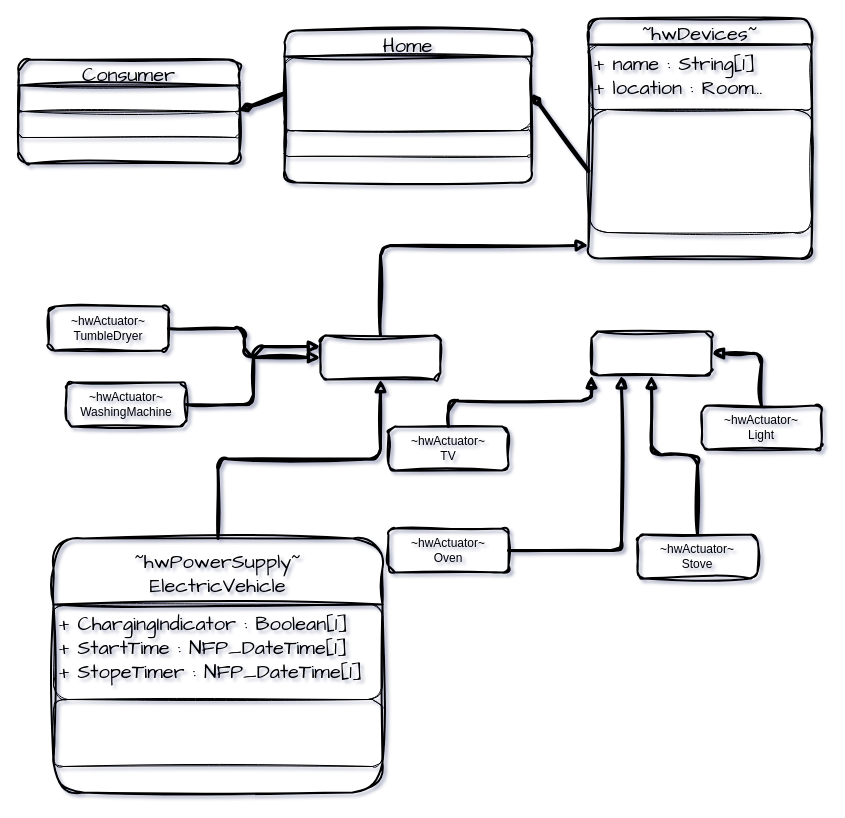
The diagram is 845 pixels wide and 818 high, and some of its shapes have lost their labels. The centre of each missing label's shape, as x and y in pixels:
"+ address : String[1] + PostcodeL Int... + Home" belongs at point (408, 93).
"+ on() + off() + Status() + Consumption()" belongs at point (700, 170).
"+ setChargingTime() + Plug()" belongs at point (217, 732).
"+userID : In... + actor" belongs at point (129, 98).
"ControllableLoad" belongs at point (380, 357).
"UncontrollableLoad" belongs at point (651, 353).
